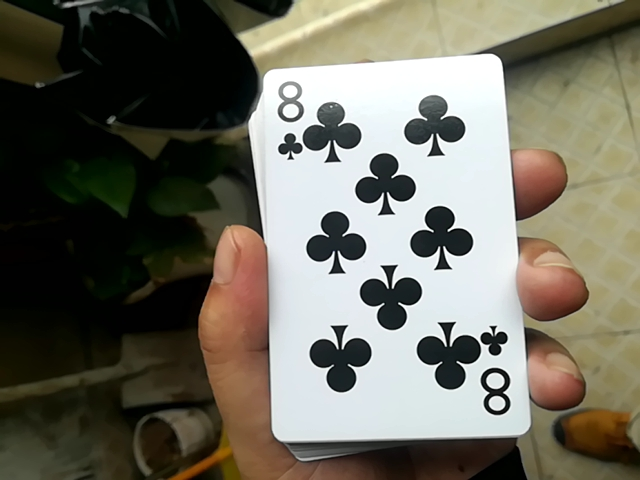mh 8: (241, 55, 540, 444)
